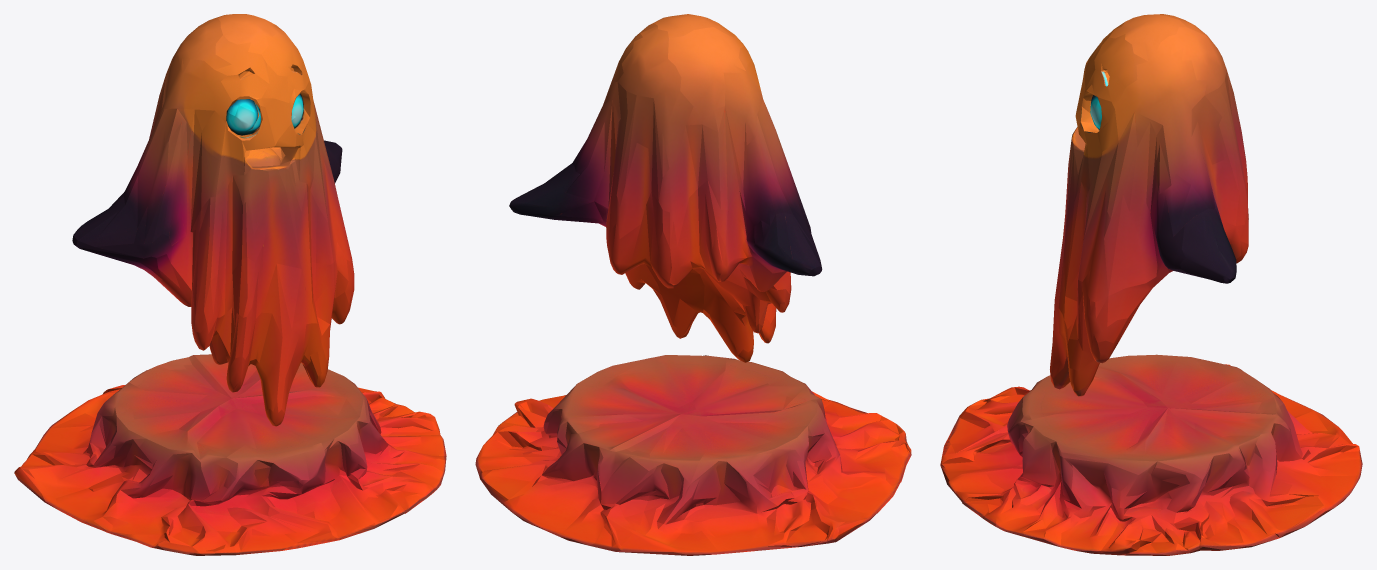
The model's file is hw-ghost.glb.
3 views of the same model, side by side, from view 1: azimuth 30°, elevation 25°; view 2: azimuth 150°, elevation 25°; view 3: azimuth 270°, elevation 25° (orthographic).
Size of the model in its own units: 1.67 by 1.9 by 1.63.
1 material, 1 textured.
